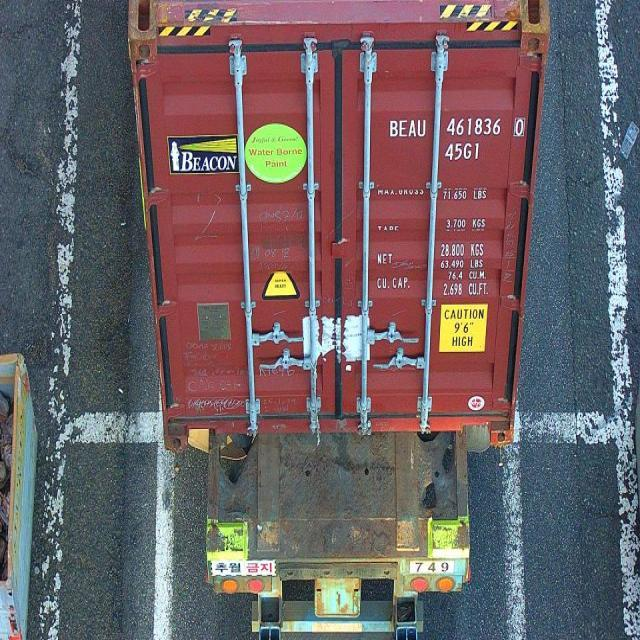ISO: (447, 142, 482, 160)
container_number: (387, 117, 523, 139)
